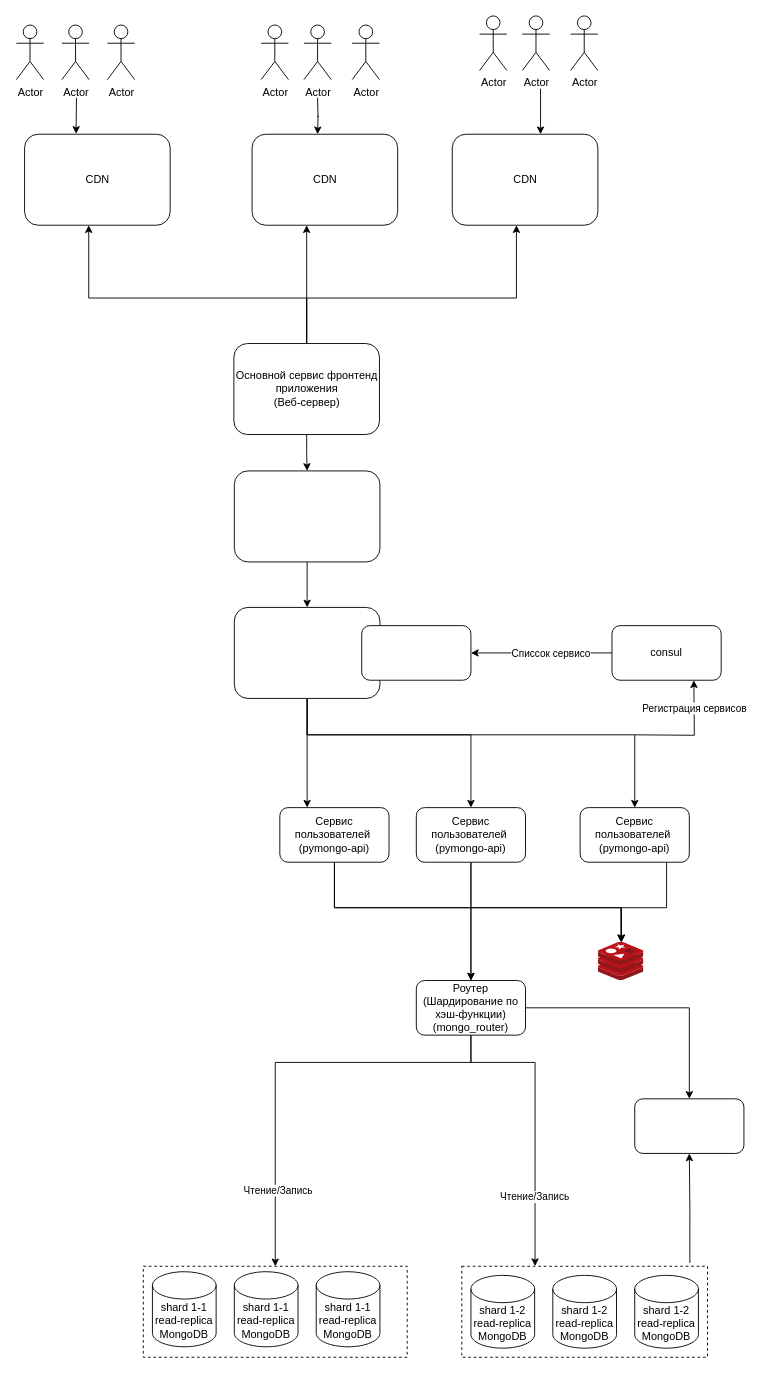
Some shapes in this 762 by 1373 pixel diagram are drawn without their labels. The shapes that lost their labels are listed below. From the top down, each one's centre as x and y in pixels, then its label:
At (x=306, y=516): "NGINX".
At (x=306, y=652): "APi GATEWAY".
At (x=416, y=652): "consul_vk".
At (x=620, y=961): "Redis_1".
At (x=689, y=1125): "Конфигурационный сервер (configSrv)".
